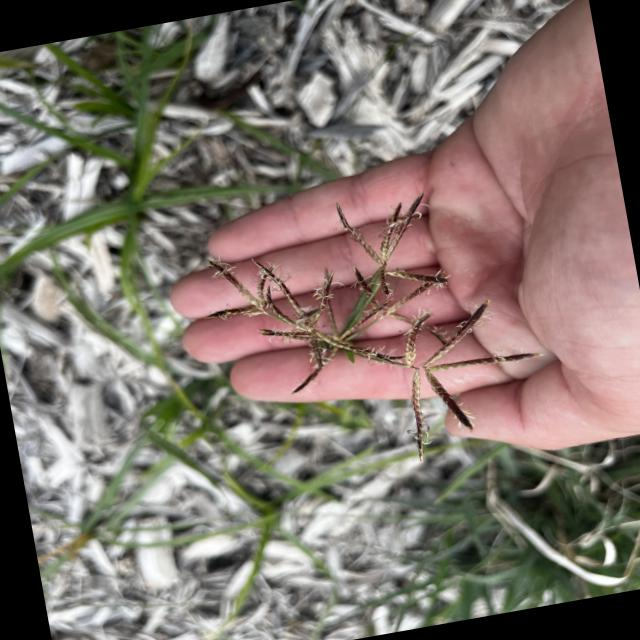cyperus: (185, 172, 546, 482)
